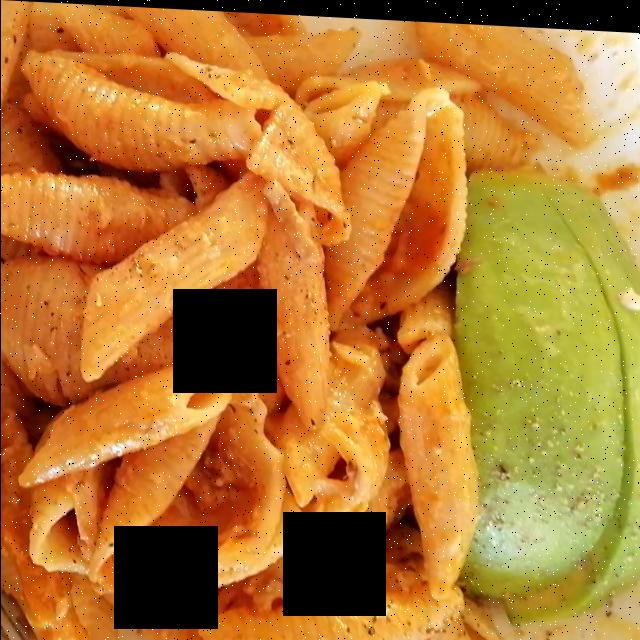avocado: (456, 154, 640, 610)
high-protein-pasta-made-of-lentils-peas: (9, 4, 581, 640)
